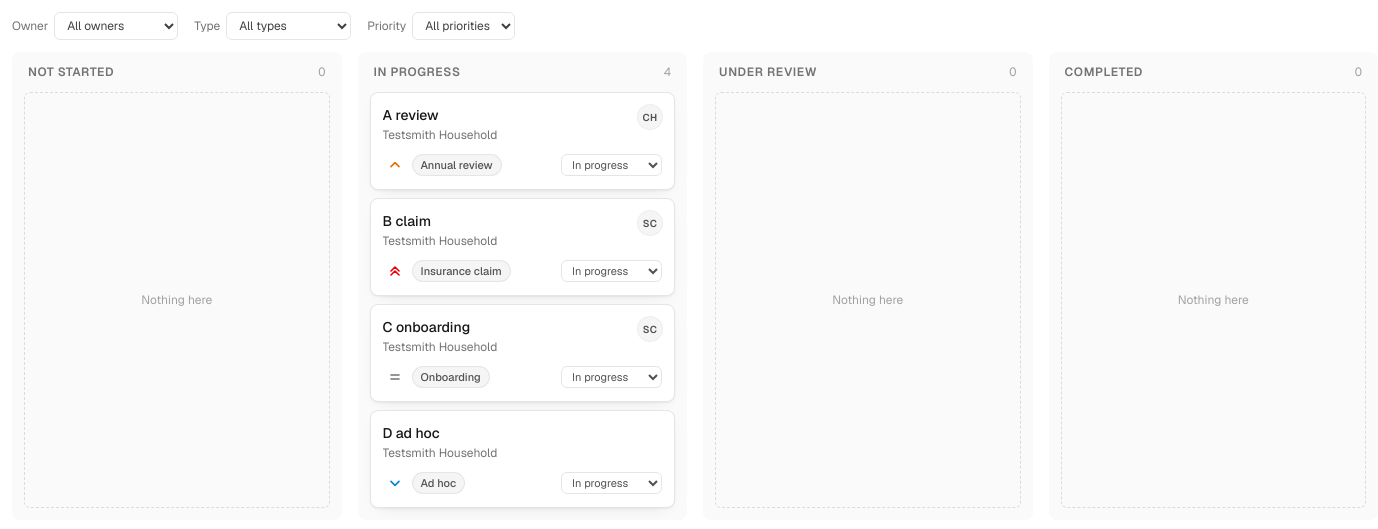
Test: filters › an emptied lane says nothing matches, not nothing here
Select "Unassigned" in the dropdown named "Filter by owner": point(116, 26) [54,12,178,40]
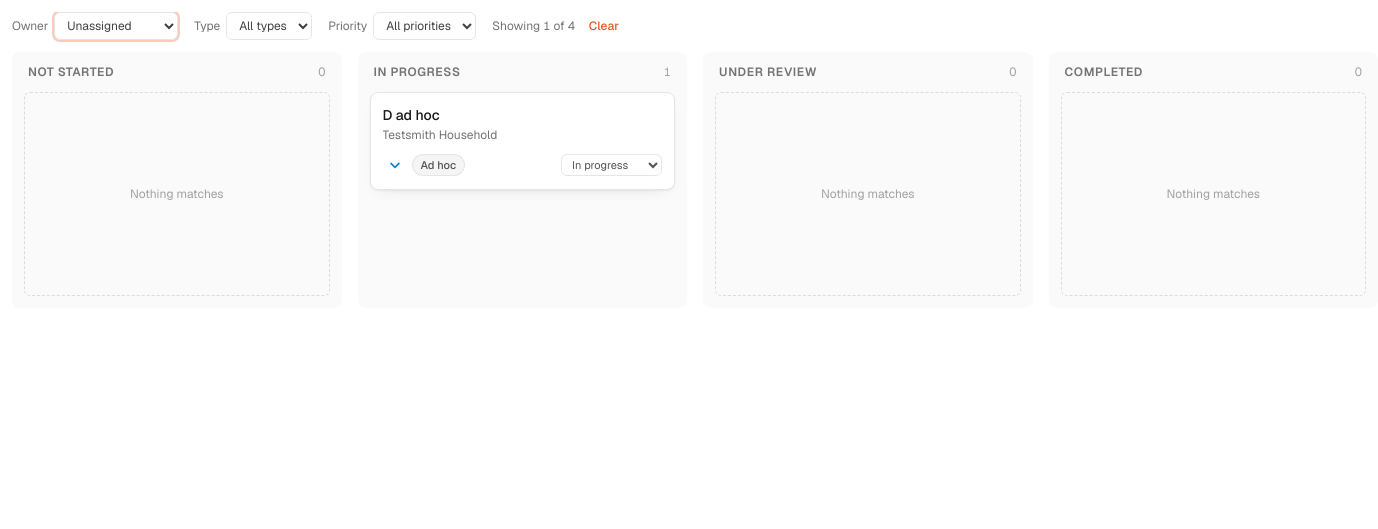
expect the text "Nothing matches" below "Not started" is shown: met, box [130,186,224,202]
expect the text "Nothing here" is gone: met
